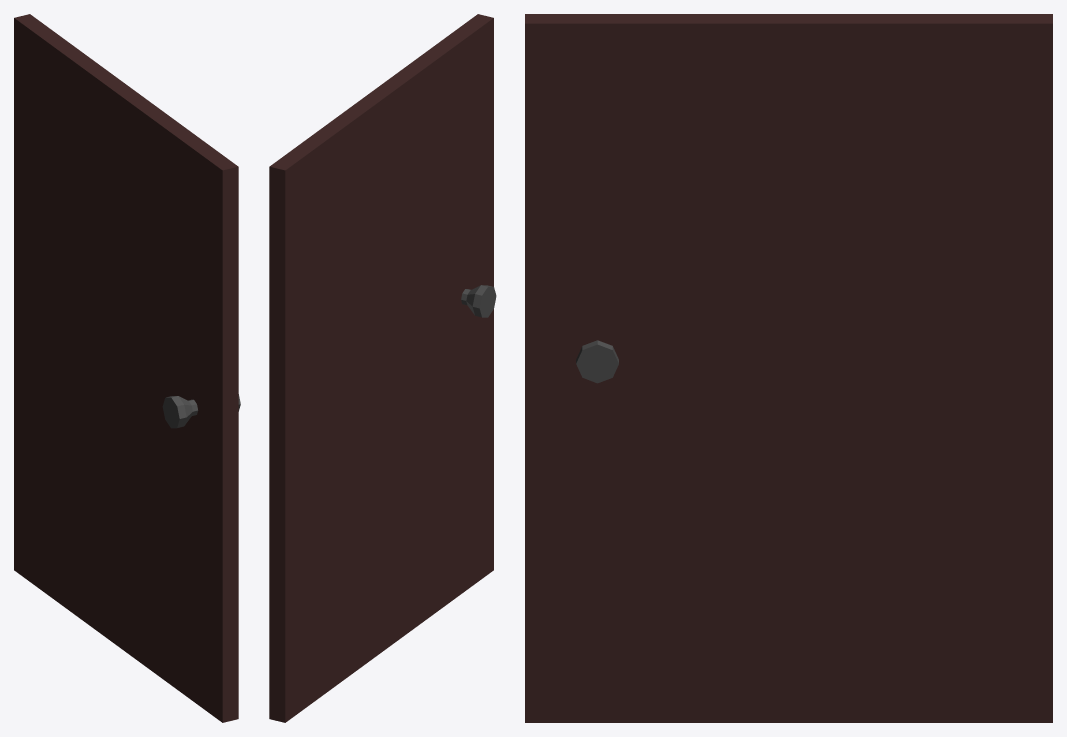
File: MARCOREALFIXED.fbx
3 views of the same model, side by side, from view 1: azimuth 30°, elevation 25°; view 2: azimuth 150°, elevation 25°; view 3: azimuth 270°, elevation 25° (orthographic). The views are drawn at different scales.
Parts seen in each view (by area): view 1: Cylinder.012; view 2: Cylinder.012; view 3: Cylinder.012.
Part boxes in pixels (left/top/right/bottom): Cylinder.012: left=14, top=14, right=240, bottom=722; Cylinder.012: left=269, top=14, right=496, bottom=722; Cylinder.012: left=525, top=14, right=1052, bottom=722.
Size of the model in its own units: 41.58 by 358 by 245.
